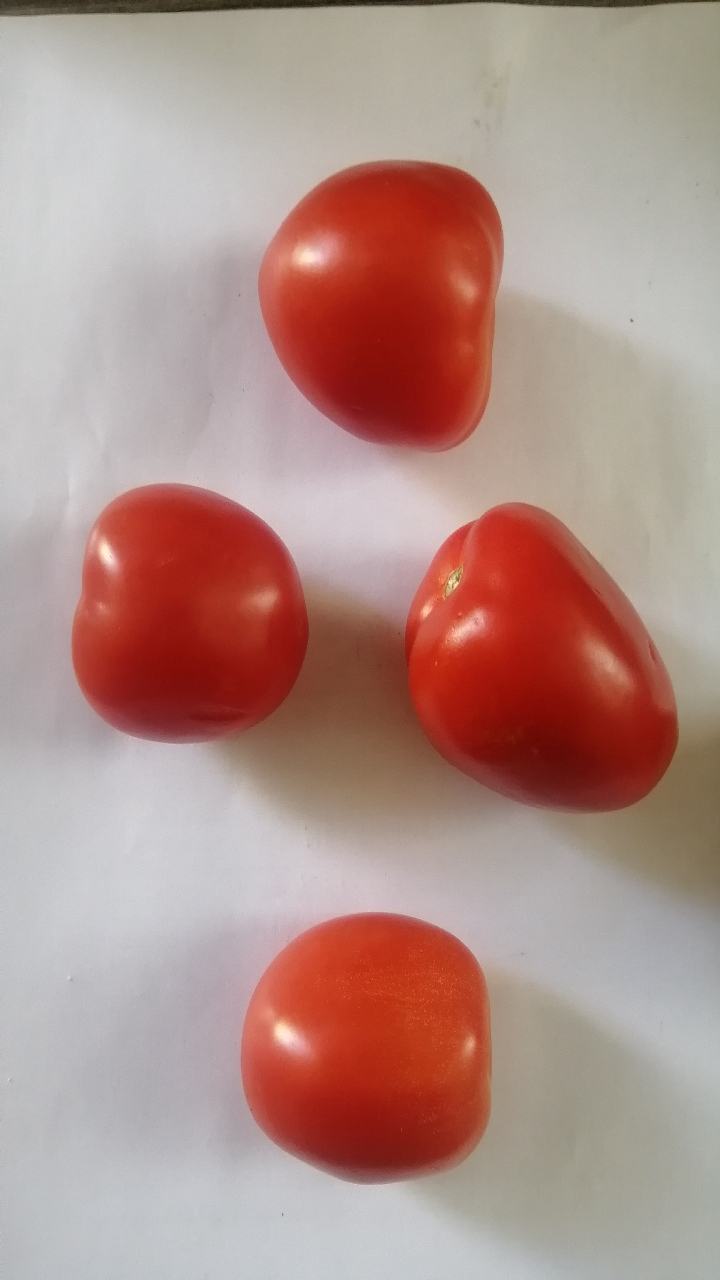tomateRojo: (383, 488, 695, 820), (235, 151, 526, 465), (218, 899, 514, 1202), (52, 449, 317, 763)
